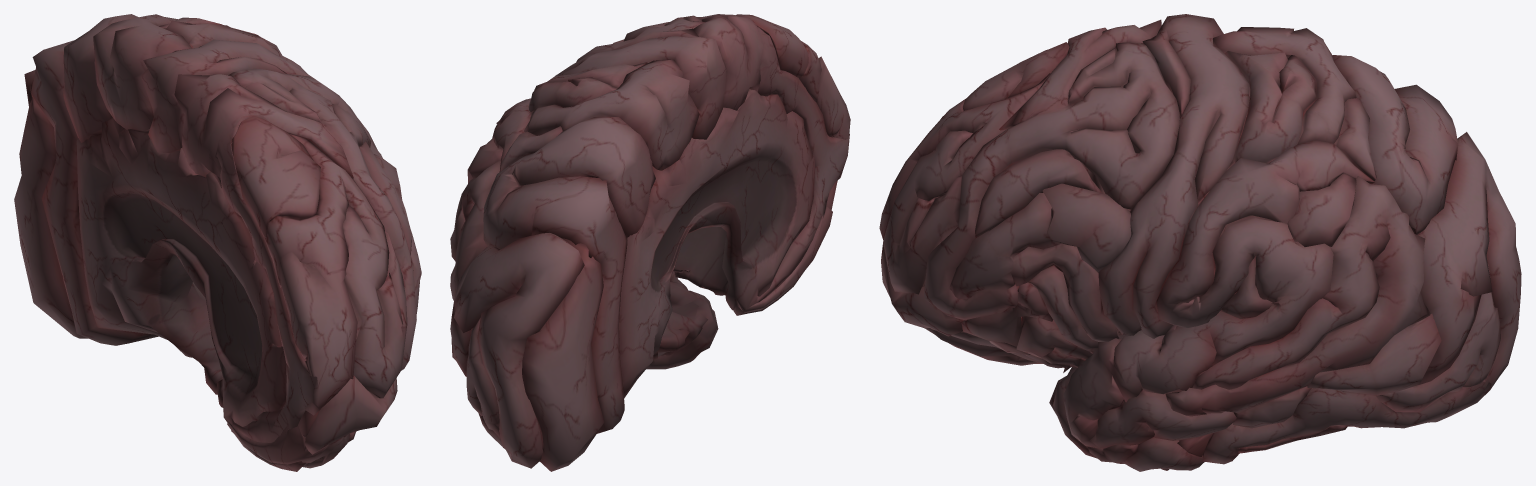
File: Carebrum.gltf
The picture shows the model from 3 angles, left to right: view 1: azimuth 30°, elevation 25°; view 2: azimuth 150°, elevation 25°; view 3: azimuth 270°, elevation 25°; orthographic projection. The views are drawn at different scales.
Parts seen in each view (by area): view 1: Carebrum; view 2: Carebrum; view 3: Carebrum.
Boxes of the visible parts, bbox=[...] form: Carebrum: bbox=[14, 14, 421, 471]; Carebrum: bbox=[450, 14, 850, 471]; Carebrum: bbox=[879, 14, 1521, 471].
Size of the model in its own units: 6.6 by 11.32 by 16.76.
Materials: 1 (1 with a texture image).
